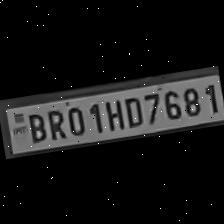0: (61, 102, 88, 138)
1: (82, 98, 105, 134), (200, 80, 222, 115)
6: (158, 86, 183, 122)
7: (138, 89, 162, 126)
8: (177, 82, 203, 119)
B: (22, 108, 48, 142)
D: (120, 92, 144, 128)
H: (100, 94, 125, 132)
R: (43, 105, 67, 141)
